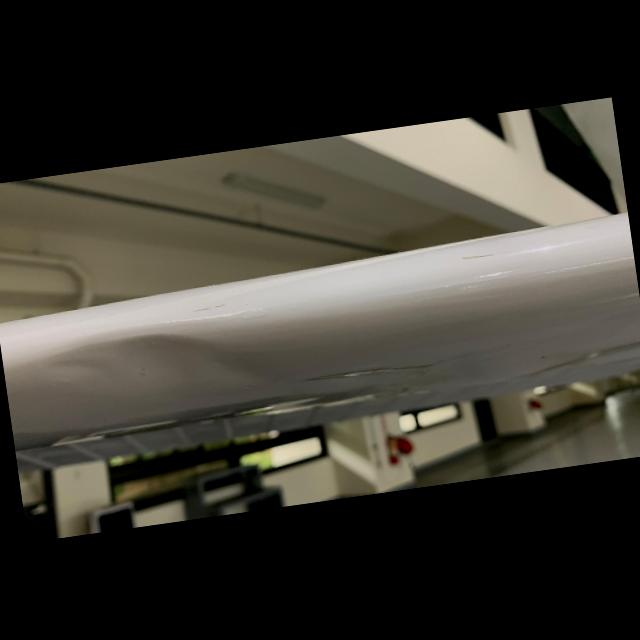dent: (1, 308, 291, 431)
